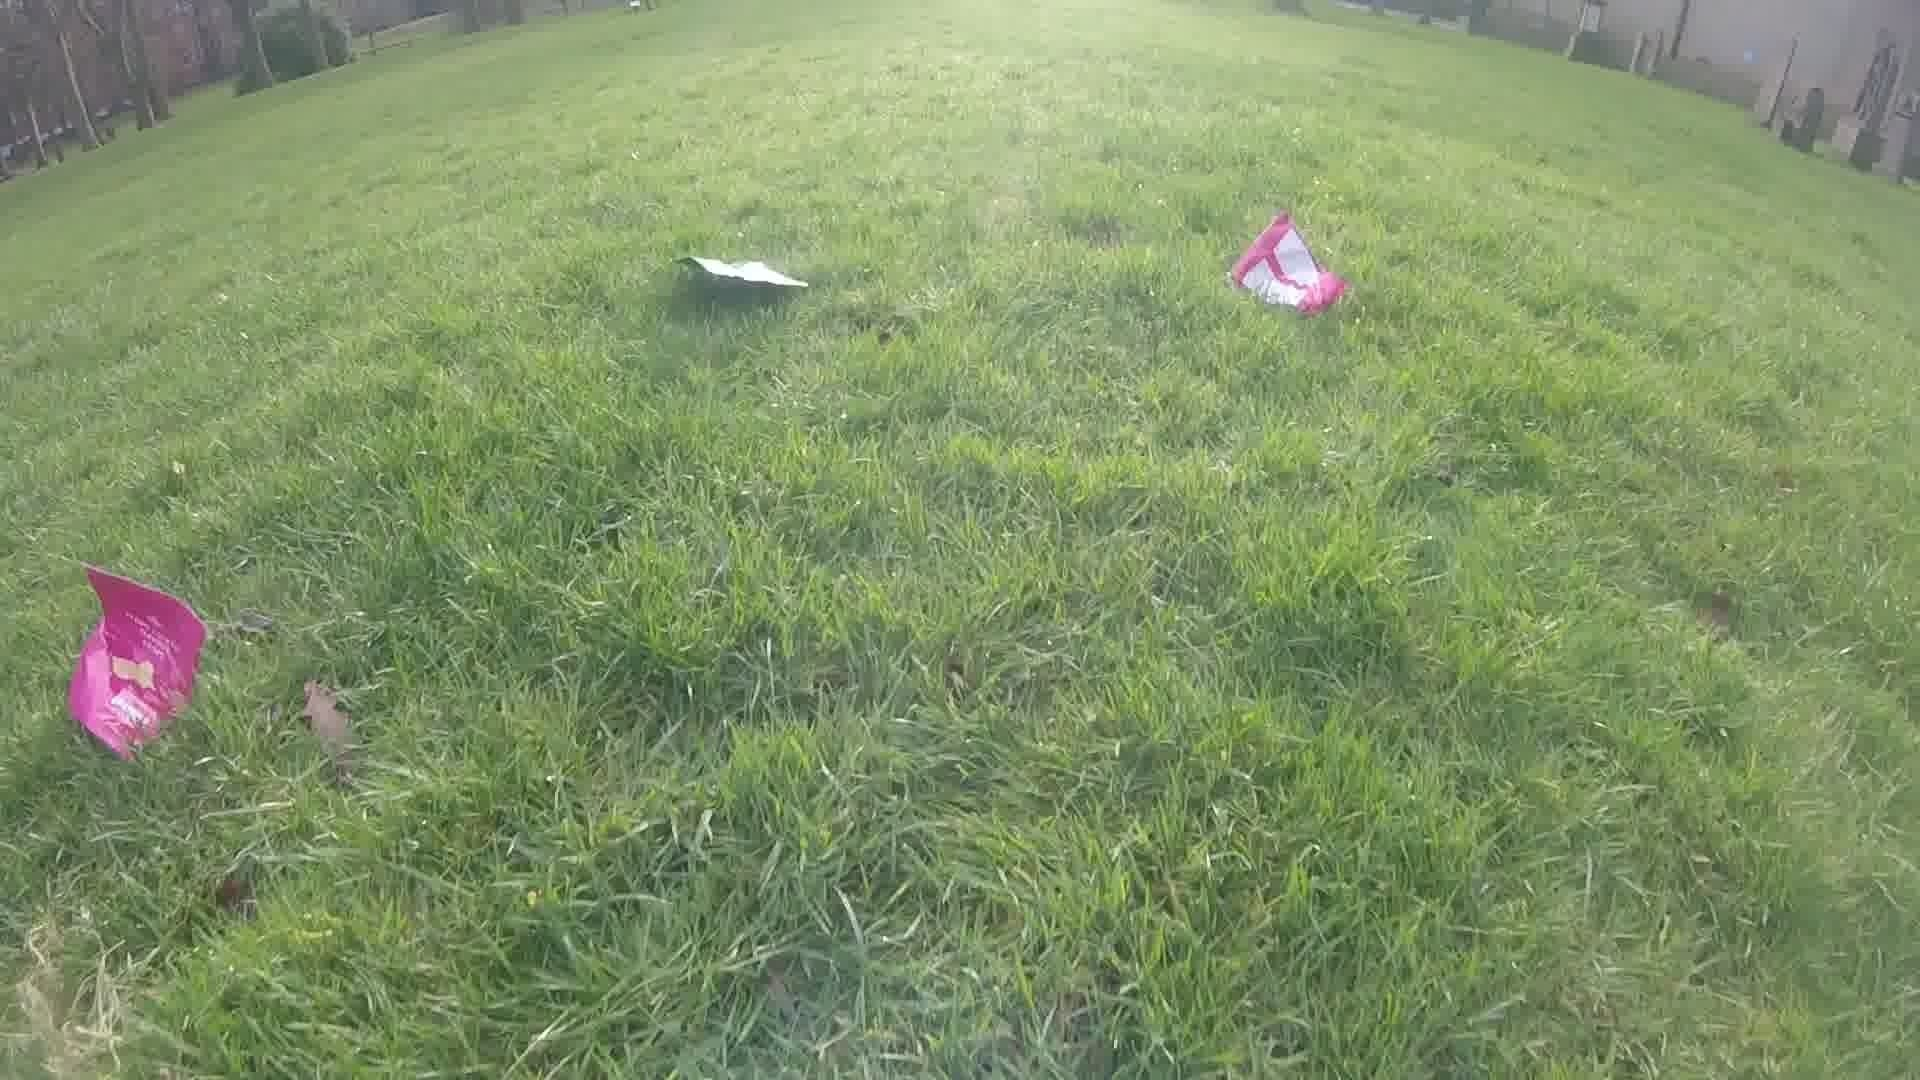litter: (59, 575, 196, 752), (1221, 222, 1342, 320), (676, 255, 811, 303)
